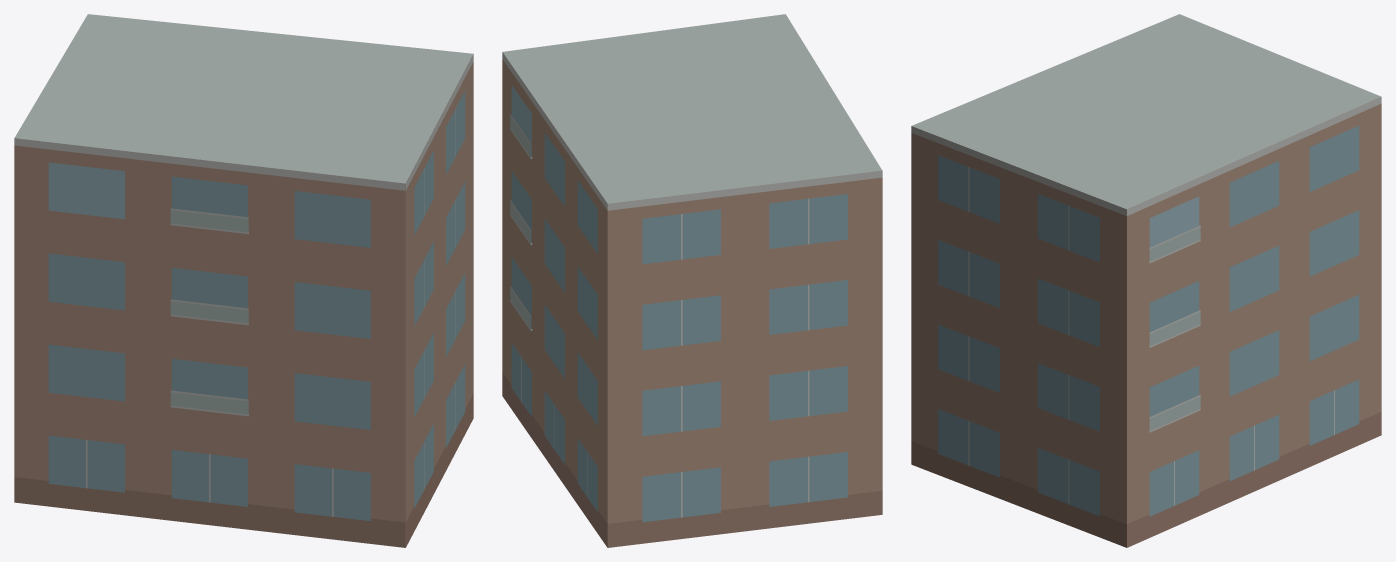
Rendered from survey-upis-32500860.glb.
3 renders of one model, left to right at view 1: azimuth 30°, elevation 25°; view 2: azimuth 150°, elevation 25°; view 3: azimuth 270°, elevation 25°, orthographic. The views are drawn at different scales.
Visible parts, largest first — view 1: survey-upis-32500860.tmp; view 2: survey-upis-32500860.tmp; view 3: survey-upis-32500860.tmp.
Boxes of the visible parts, <box> form: survey-upis-32500860.tmp: <box>14,14,473,547</box>; survey-upis-32500860.tmp: <box>502,14,882,547</box>; survey-upis-32500860.tmp: <box>911,14,1381,547</box>.
Bounding box in the file's own units: 15.11 × 12.2 × 15.37.
